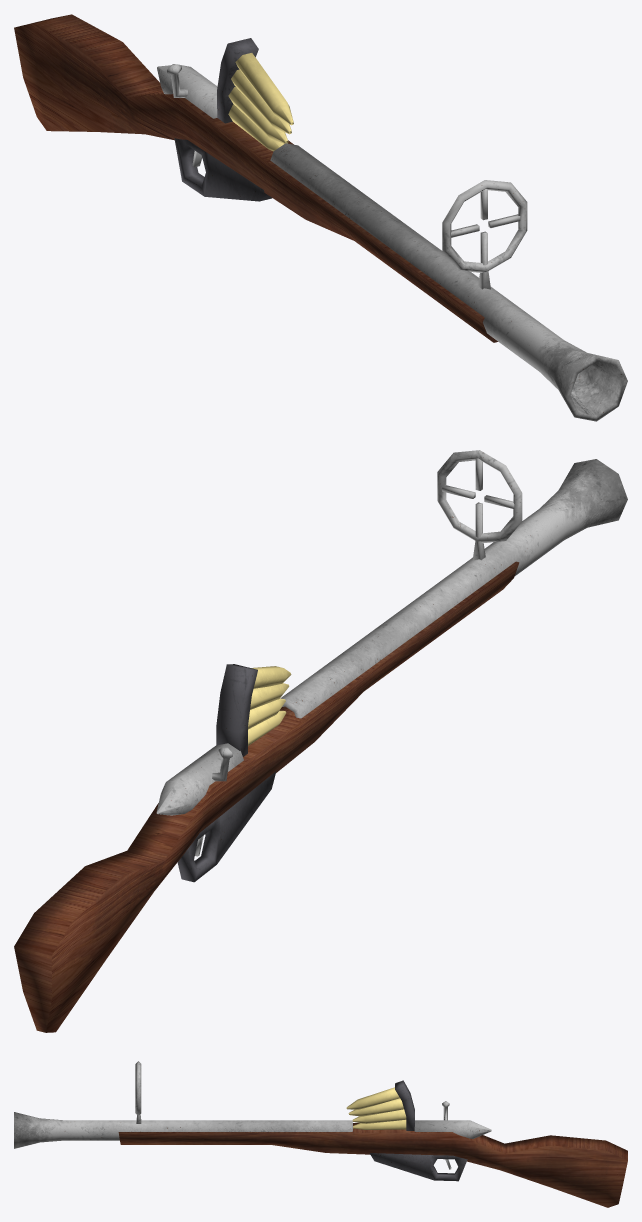
Rendered from sniperRifle.fbx.
The picture shows the model from 3 angles, top to bottom: view 1: azimuth 30°, elevation 25°; view 2: azimuth 150°, elevation 25°; view 3: azimuth 270°, elevation 25°; orthographic projection. The views are drawn at different scales.
Parts seen in each view (by area): view 1: franco; view 2: franco; view 3: franco.
Boxes of the visible parts, box(x1,y1,x2,y2) form: franco: box(14, 14, 627, 421); franco: box(14, 450, 627, 1032); franco: box(14, 1061, 627, 1207).
Size of the model in its own units: 9.18 by 106 by 27.35.
